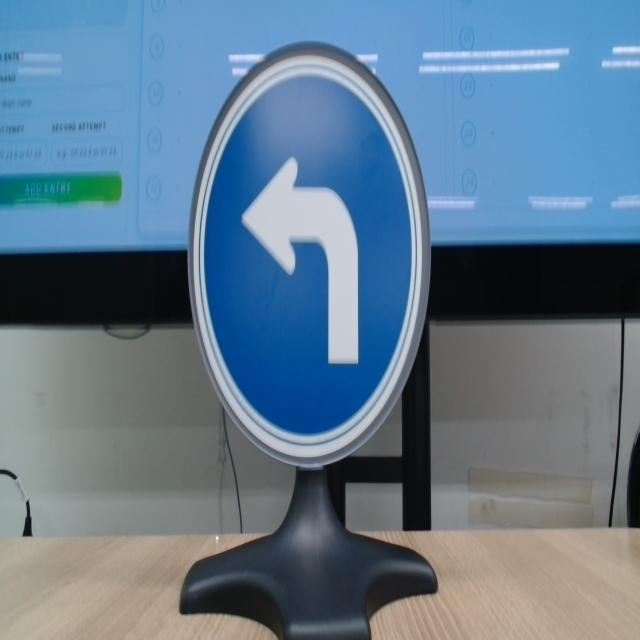left_direction: (178, 14, 478, 513)
